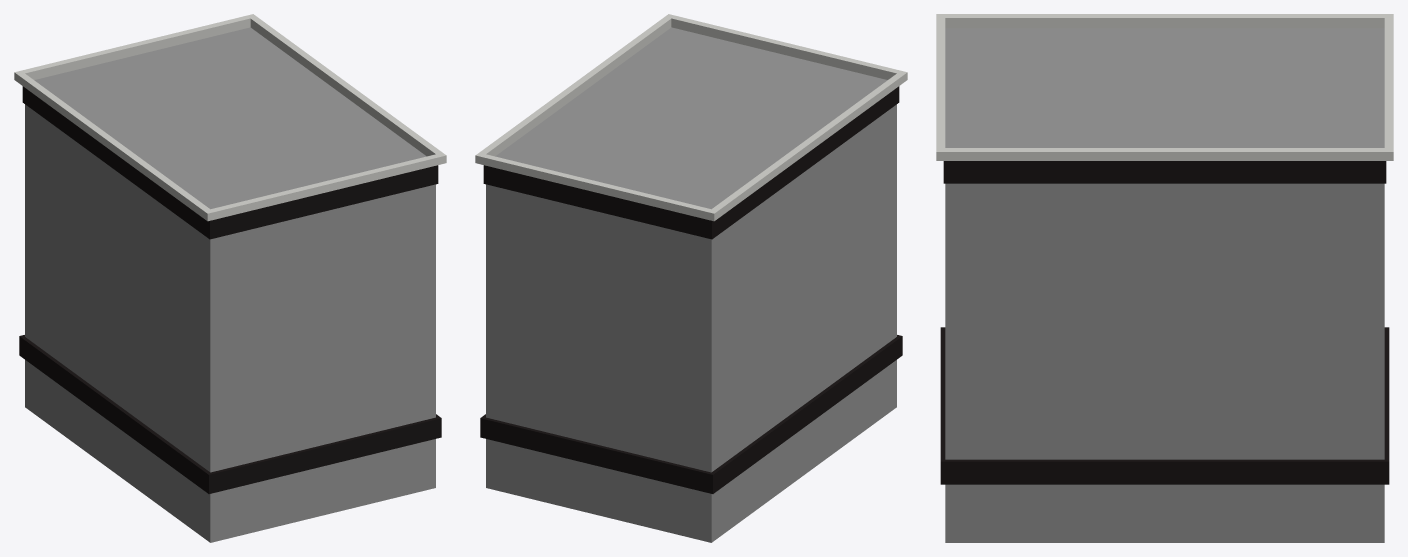
File: SM_bld_block_01.fbx
The picture shows the model from 3 angles, left to right: view 1: azimuth 30°, elevation 25°; view 2: azimuth 150°, elevation 25°; view 3: azimuth 270°, elevation 25°; orthographic projection. The views are drawn at different scales.
Parts seen in each view (by area): view 1: bld_block_01; view 2: bld_block_01; view 3: bld_block_01.
Part boxes in pixels (x1,y1,x2,y2): bld_block_01: (14,14,446,542); bld_block_01: (475,14,907,542); bld_block_01: (936,14,1393,542).
Bounding box in the file's own units: 586 × 782 × 821.
